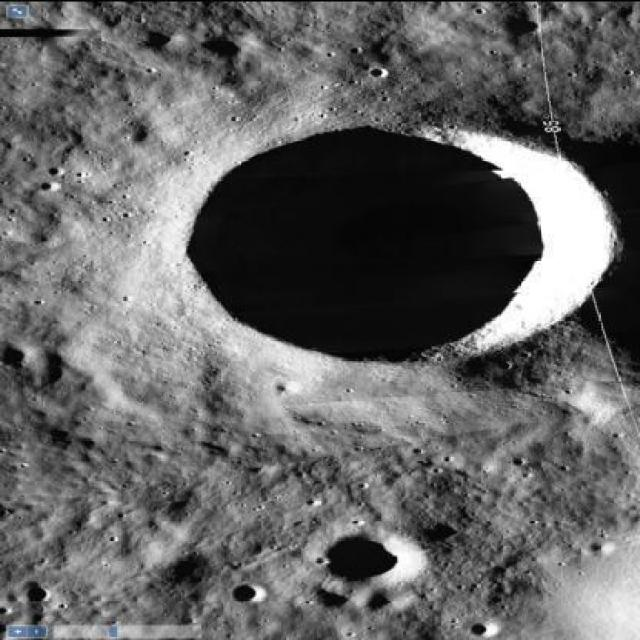crater: (181, 122, 614, 364), (309, 525, 426, 589), (230, 582, 268, 603)
